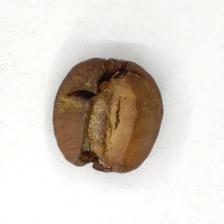NG: (73, 71, 142, 164)
